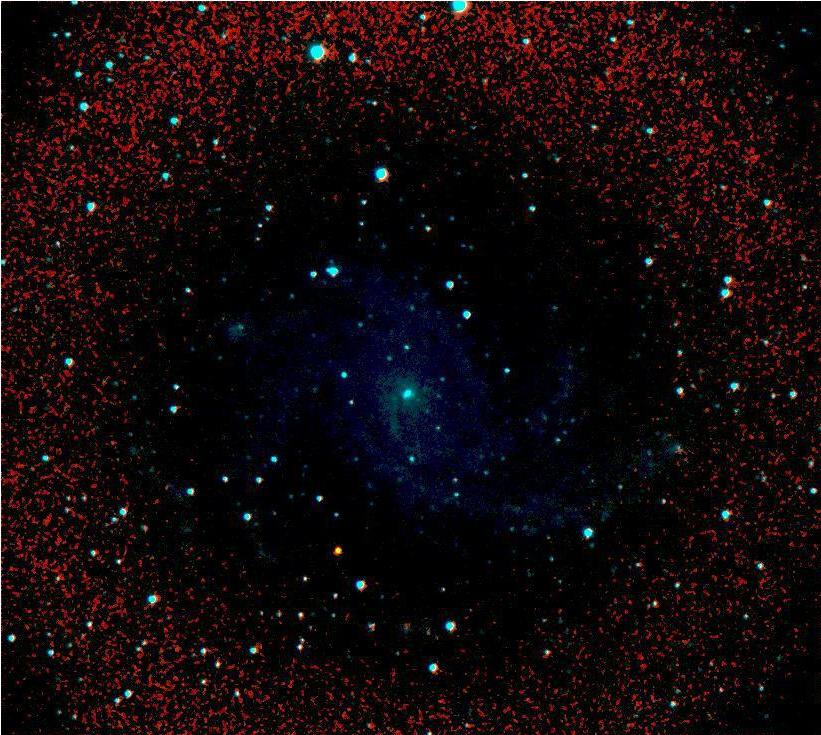star: (325, 537, 355, 567)
